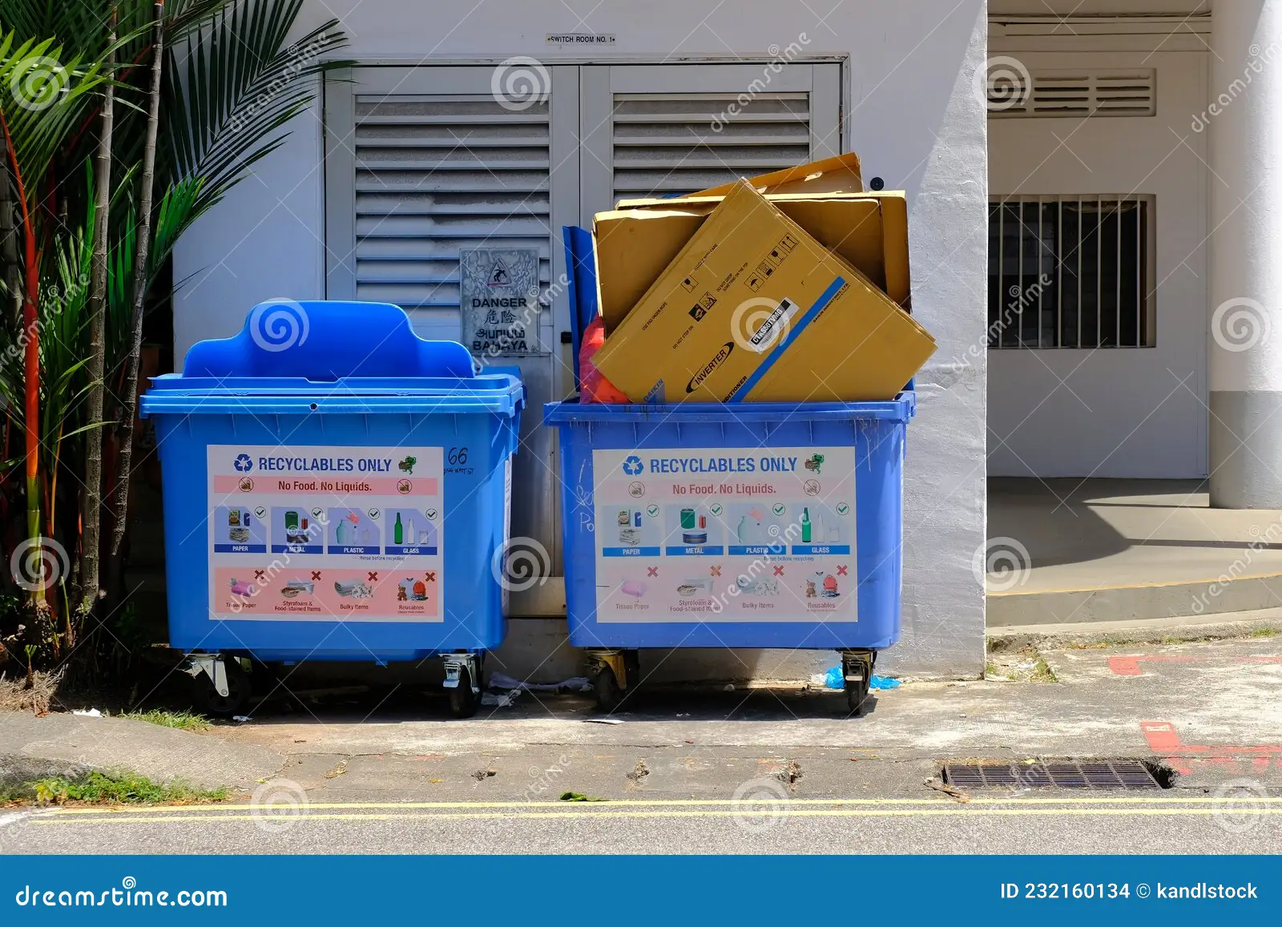bin_empty: (143, 302, 524, 695)
bin_full: (543, 154, 935, 687)
bulk_waste: (596, 181, 935, 402), (749, 153, 909, 310), (593, 183, 732, 333)
